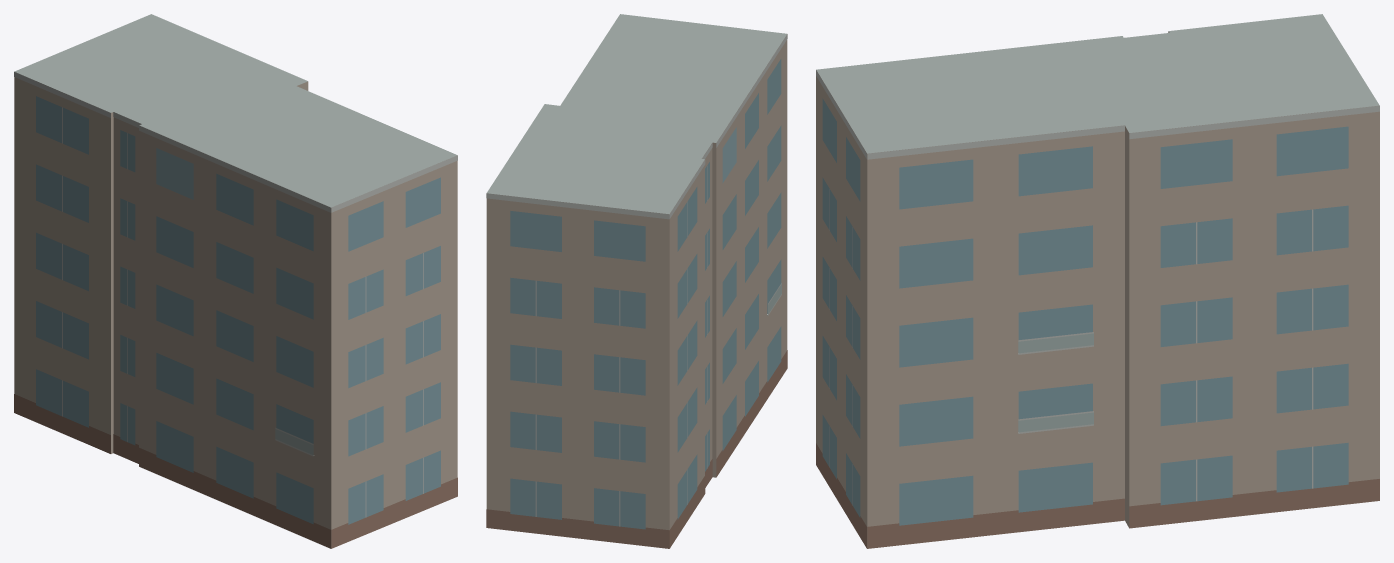
The model's file is survey-upis-32563977.glb.
3 views of the same model, side by side, from view 1: azimuth 30°, elevation 25°; view 2: azimuth 150°, elevation 25°; view 3: azimuth 270°, elevation 25° (orthographic). The views are drawn at different scales.
Visible parts, largest first — view 1: survey-upis-32563977.tmp; view 2: survey-upis-32563977.tmp; view 3: survey-upis-32563977.tmp.
Boxes of the visible parts, box(x1,y1,x2,y2) form: survey-upis-32563977.tmp: box(14, 14, 457, 548); survey-upis-32563977.tmp: box(486, 14, 787, 548); survey-upis-32563977.tmp: box(816, 14, 1379, 548).
Size of the model in its own units: 11.98 by 15.8 by 20.43.
